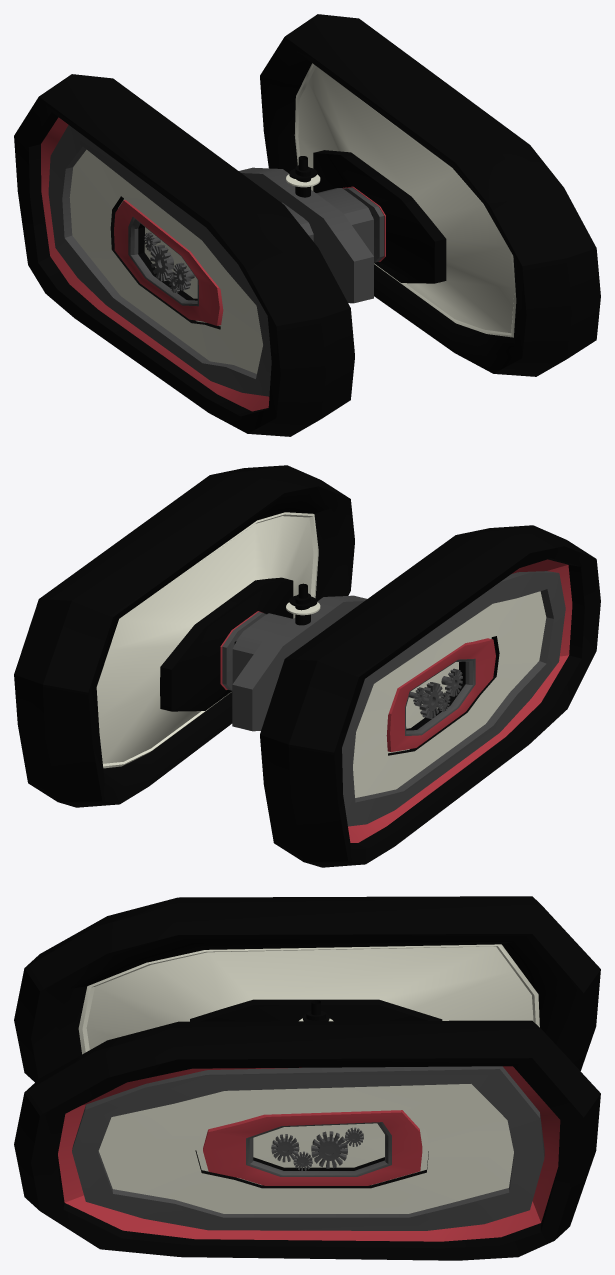
The model's file is Treads_Upgrade01.fbx.
The picture shows the model from 3 angles, top to bottom: view 1: azimuth 30°, elevation 25°; view 2: azimuth 150°, elevation 25°; view 3: azimuth 270°, elevation 25°; orthographic projection. The views are drawn at different scales.
Visible parts, largest first — view 1: Legs02; view 2: Legs02; view 3: Legs02.
Boxes of the visible parts, x1,y1,x2,y2 form: Legs02: [14, 14, 600, 436]; Legs02: [14, 465, 600, 867]; Legs02: [14, 896, 600, 1260].
Bounding box in the file's own units: 0.9162 × 0.5893 × 1.4.
